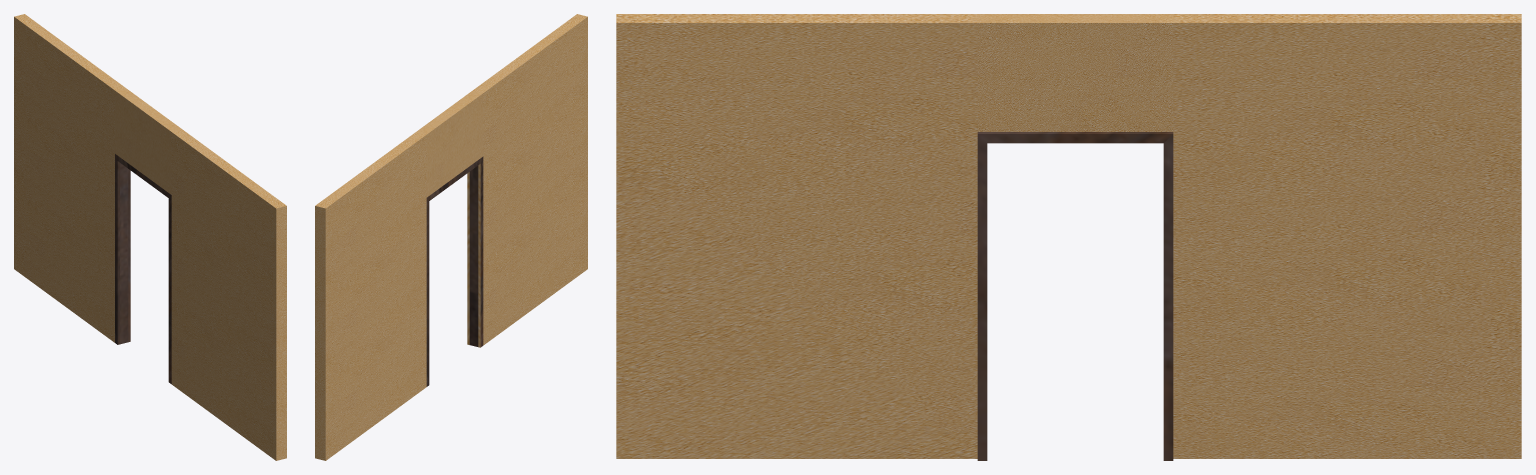
The model's file is parede_porta.fbx.
3 views of the same model, side by side, from view 1: azimuth 30°, elevation 25°; view 2: azimuth 150°, elevation 25°; view 3: azimuth 270°, elevation 25° (orthographic). The views are drawn at different scales.
Parts seen in each view (by area): view 1: Plane.003; view 2: Plane.003; view 3: Plane.003.
Boxes of the visible parts, box(x1,y1,x2,y2) form: Plane.003: box(14, 14, 286, 460); Plane.003: box(315, 14, 587, 460); Plane.003: box(616, 14, 1521, 460).
Bounding box in the file's own units: 14.61 × 271 × 509.
